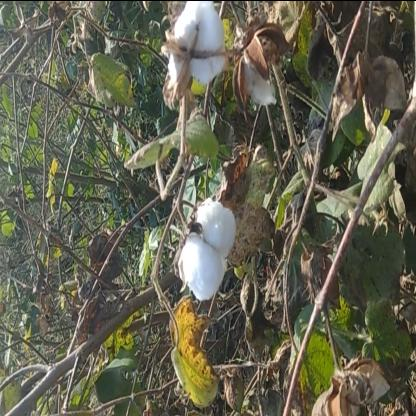cotton_ready: (179, 175, 241, 308), (154, 2, 232, 90)
